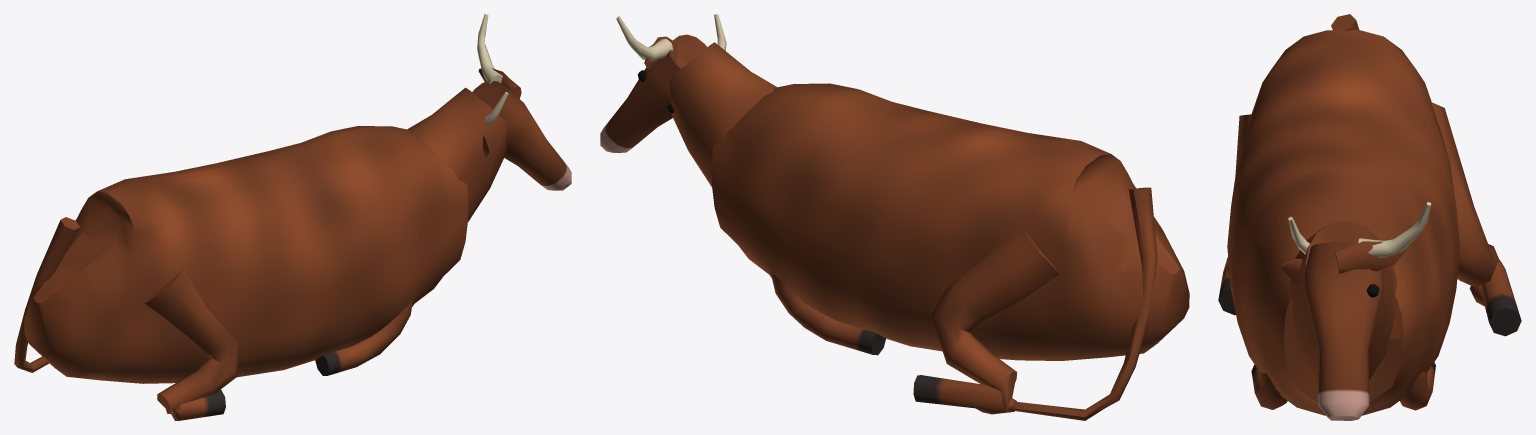
File: tpl_life_stall_1450_cow_2_cattle_red_lie_h.glb
The picture shows the model from 3 angles, left to right: view 1: azimuth 30°, elevation 25°; view 2: azimuth 150°, elevation 25°; view 3: azimuth 270°, elevation 25°; orthographic projection. The views are drawn at different scales.
Visible parts, largest first — view 1: tpl_life_stall_1450_cow_2_cattle_red_lie_h; view 2: tpl_life_stall_1450_cow_2_cattle_red_lie_h; view 3: tpl_life_stall_1450_cow_2_cattle_red_lie_h.
Boxes of the visible parts, box(x1,y1,x2,y2) form: tpl_life_stall_1450_cow_2_cattle_red_lie_h: box(14, 14, 571, 420); tpl_life_stall_1450_cow_2_cattle_red_lie_h: box(600, 14, 1189, 420); tpl_life_stall_1450_cow_2_cattle_red_lie_h: box(1218, 14, 1521, 420).
Bounding box in the file's own units: 2.32 × 1.08 × 0.9187.
3 materials, 1 textured.
